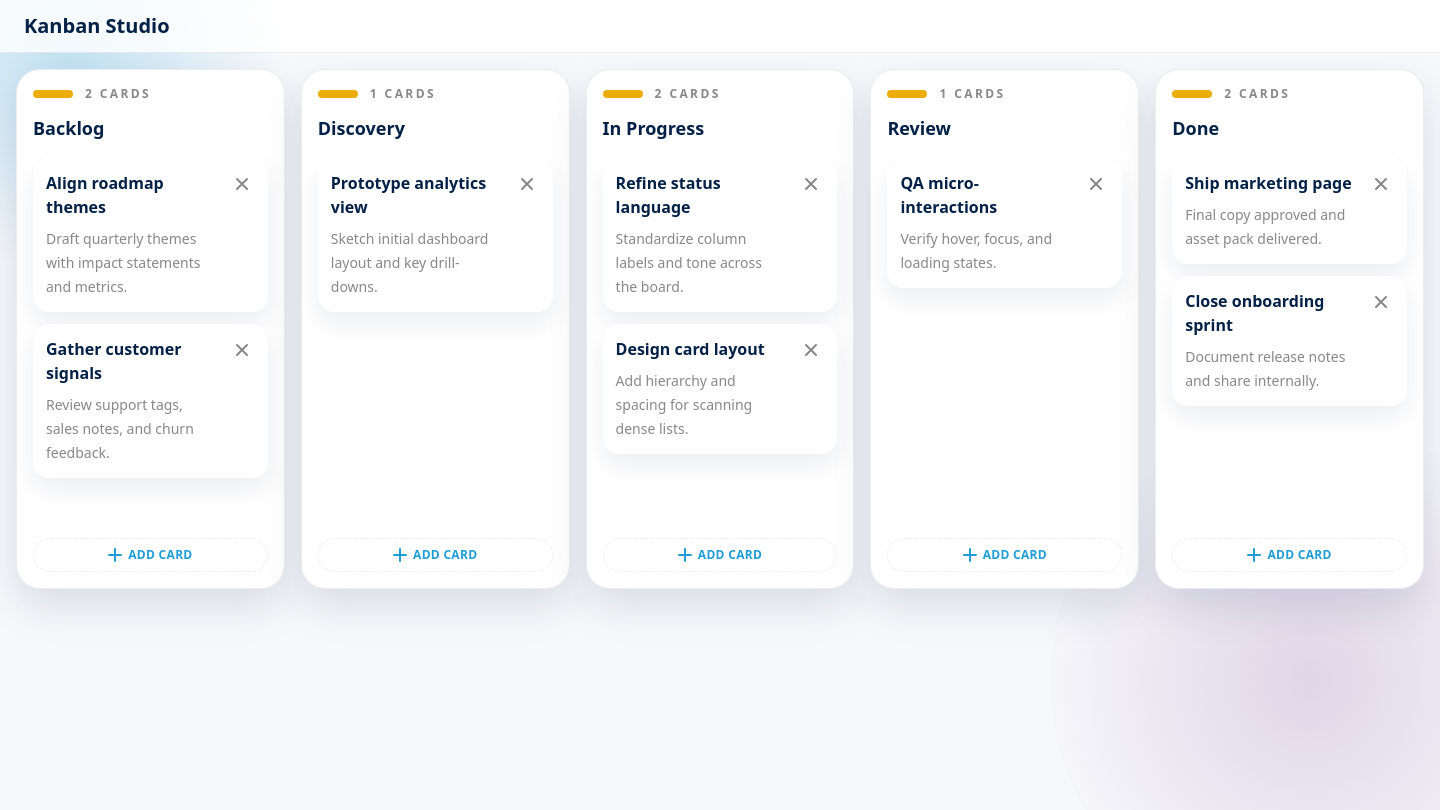
Scenario: KanbanBoard › adds and removes a card
Expected: the element with test id "column-col-backlog" is shown, top-left (16, 69), bottom-right (285, 589)
Click the 1st button "Add card" at (150, 555), box top-left (33, 538), bottom-right (268, 572)
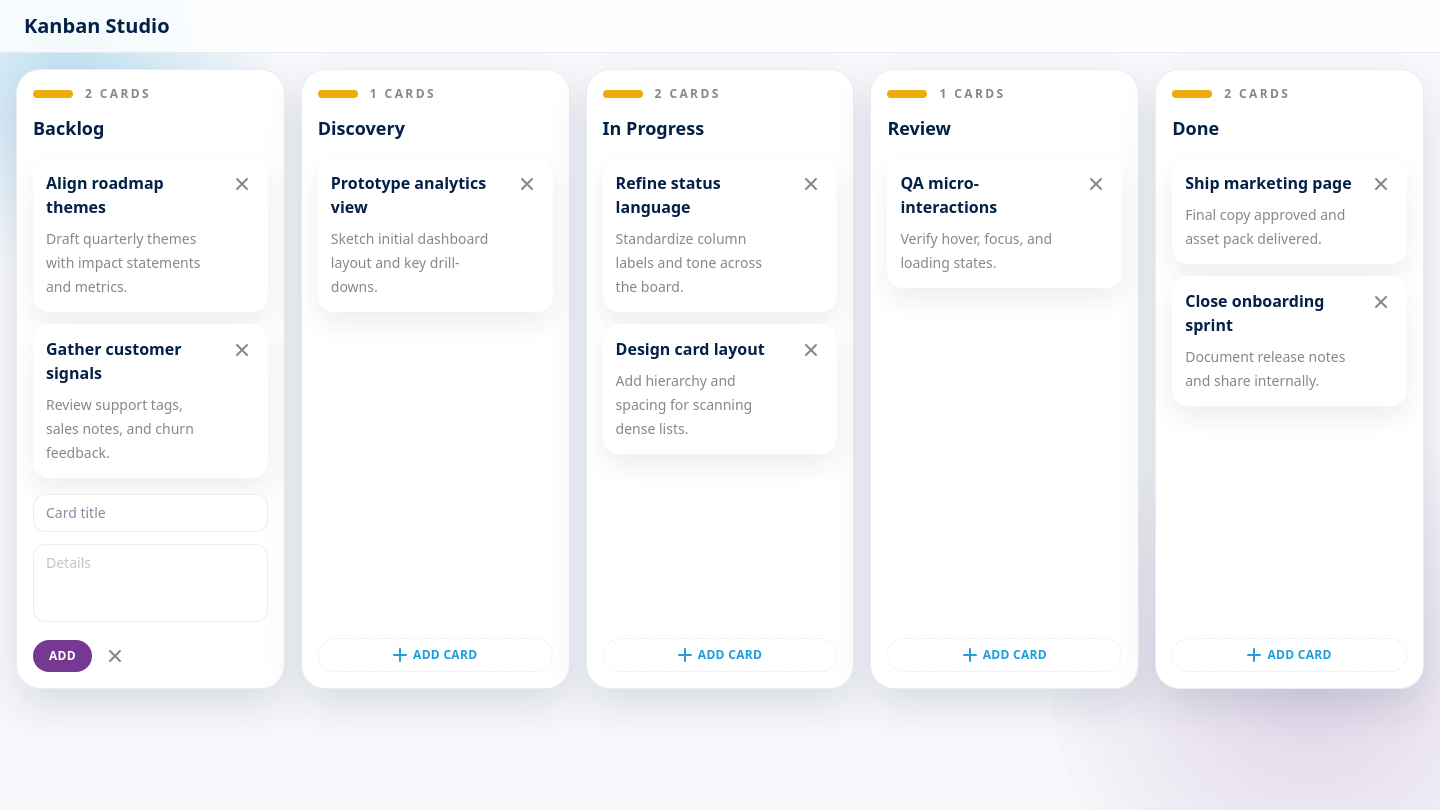
Type "New card" into the field with placeholder "Card title" at (150, 513), box top-left (33, 494), bottom-right (268, 532)
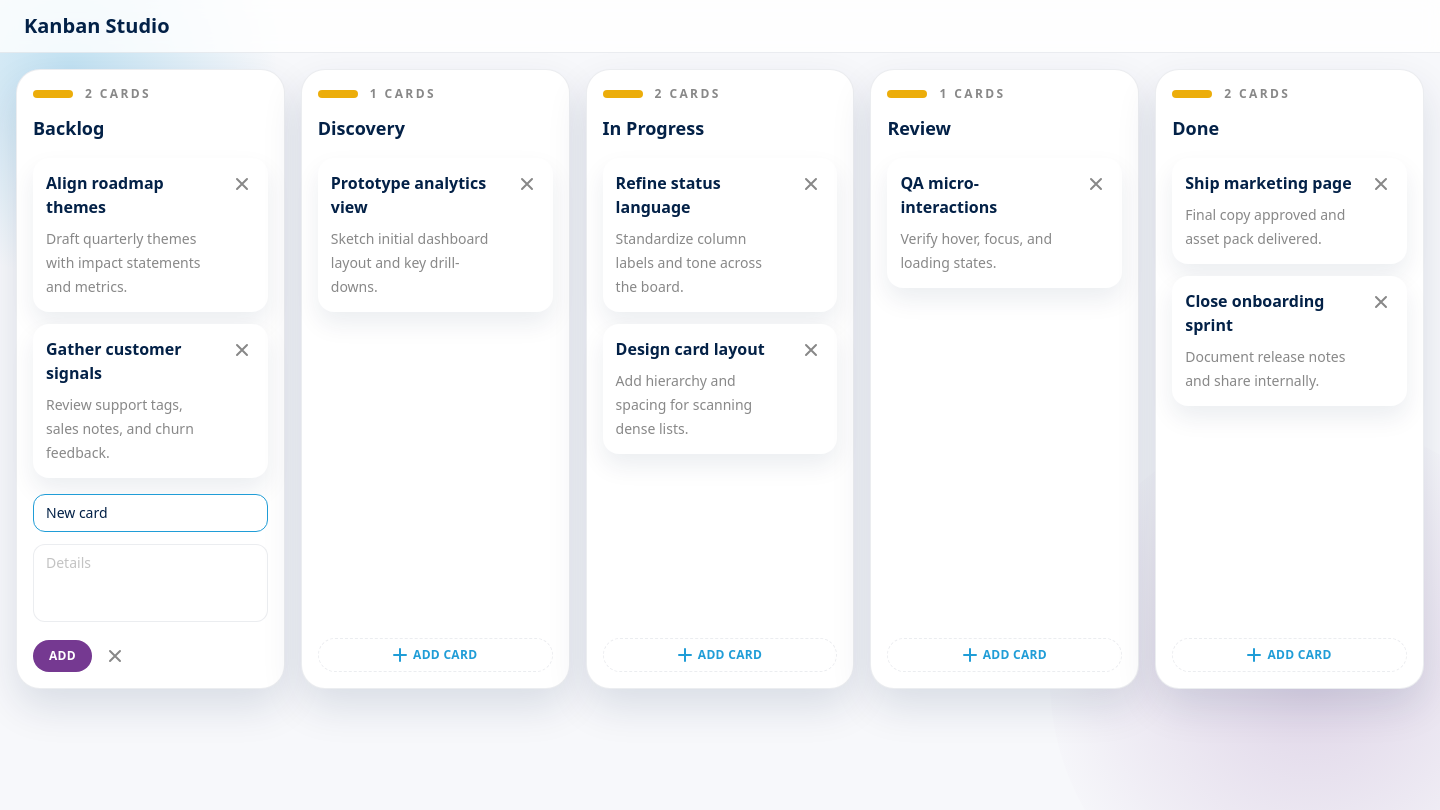
Type "Notes" into the text box with placeholder "Details" at (150, 583), box top-left (33, 544), bottom-right (268, 622)
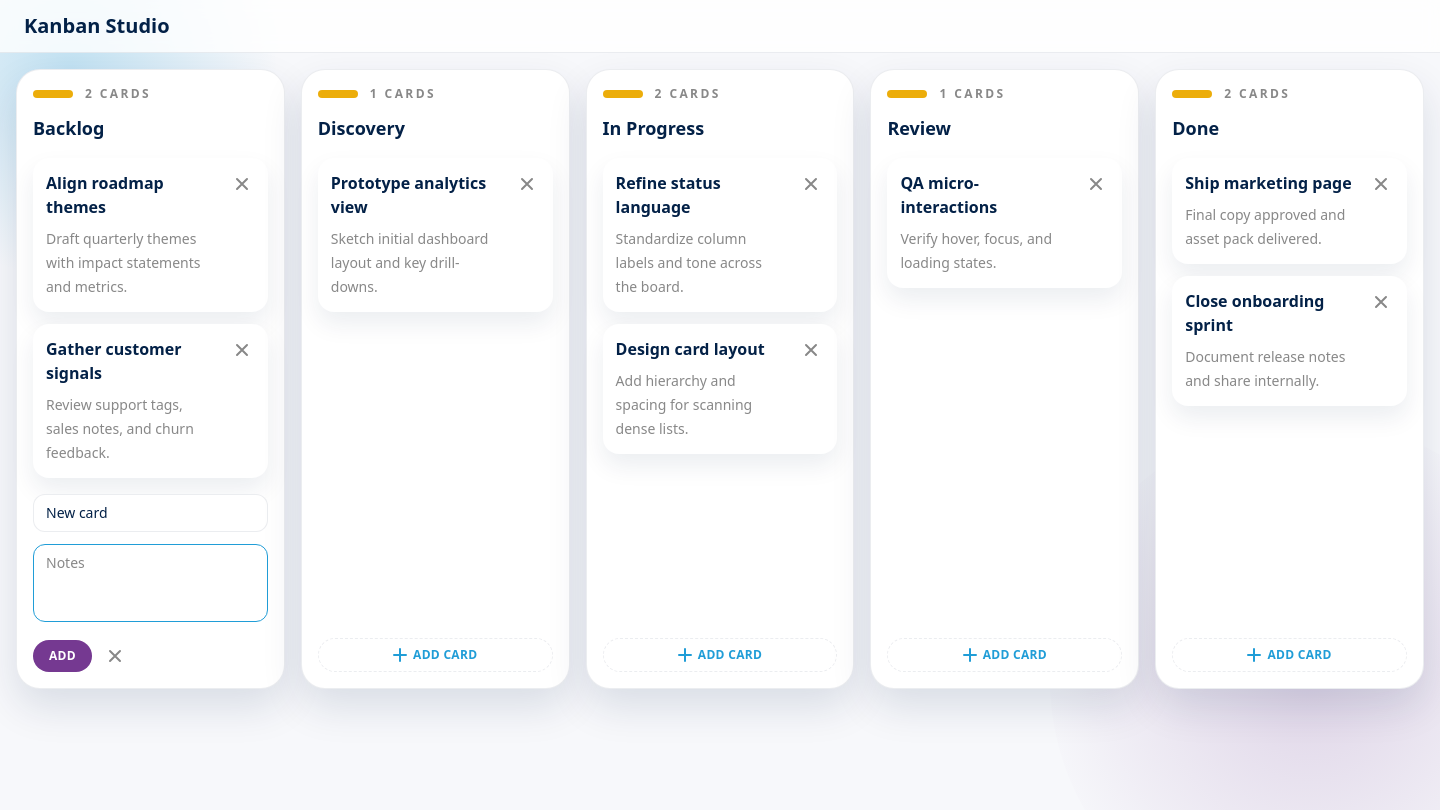
Click the button "Add" at (62, 656), box top-left (33, 640), bottom-right (92, 672)
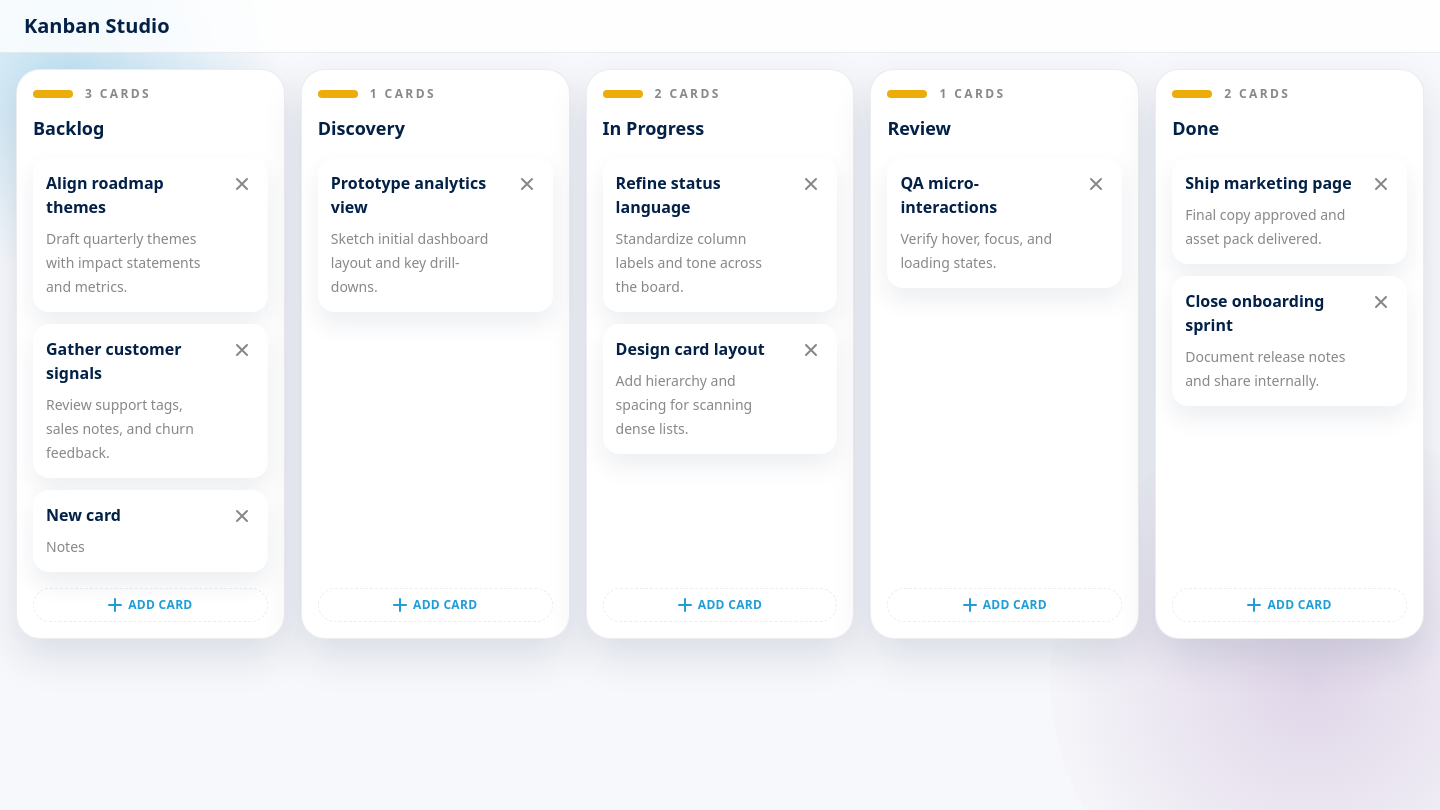
Expected: the heading "New card" is shown, top-left (46, 503), bottom-right (121, 527)
Click the button named "delete new card" at (242, 516), box top-left (229, 503), bottom-right (255, 529)
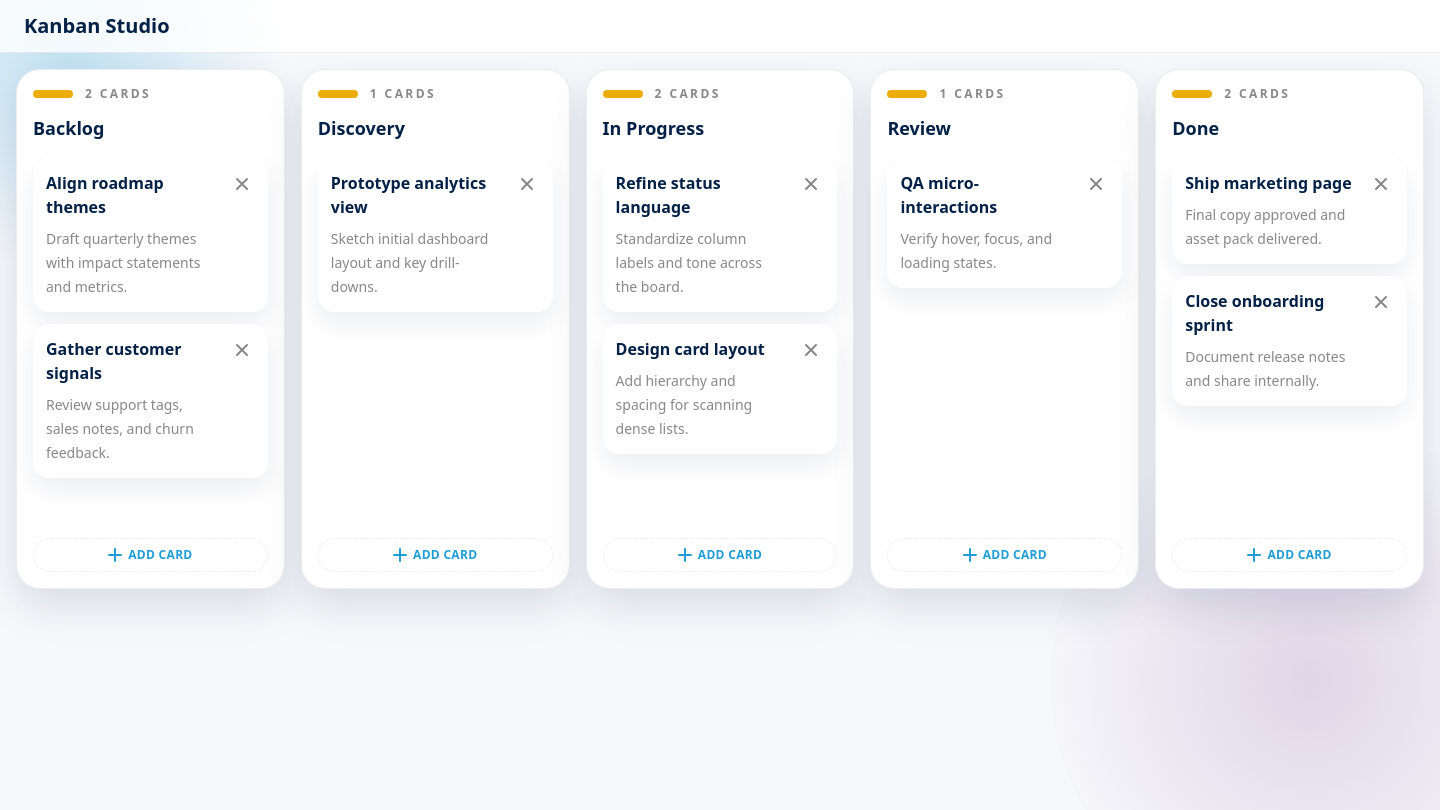
Expected: the button "New card" is gone
